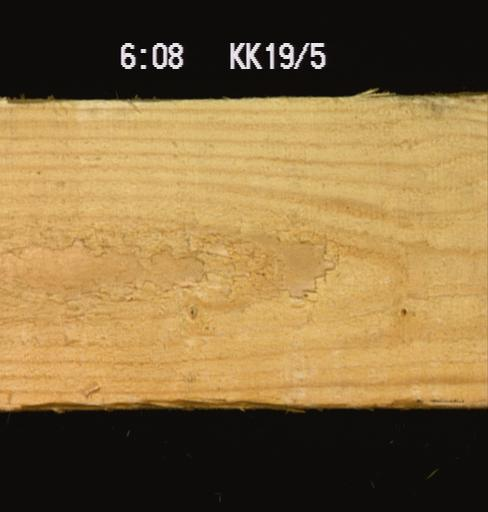small_knot: (183, 299, 202, 323), (395, 299, 412, 321)
wave: (10, 387, 307, 407), (365, 389, 464, 407)
